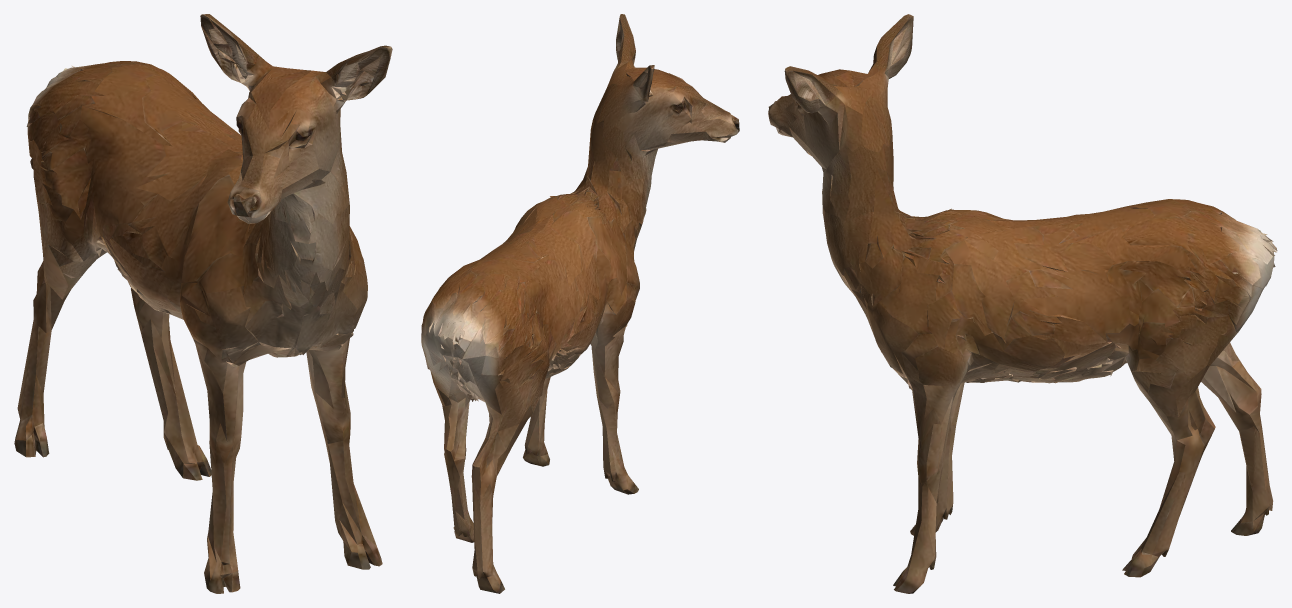
File: life_deer_doe.glb
The picture shows the model from 3 angles, left to right: view 1: azimuth 30°, elevation 25°; view 2: azimuth 150°, elevation 25°; view 3: azimuth 270°, elevation 25°; orthographic projection. The views are drawn at different scales.
Visible parts, largest first — view 1: life_deer_doe; view 2: life_deer_doe; view 3: life_deer_doe.
Part boxes in pixels (left/top/right/bottom): life_deer_doe: left=14, top=14, right=392, bottom=593; life_deer_doe: left=421, top=14, right=739, bottom=593; life_deer_doe: left=768, top=14, right=1277, bottom=593.
Bounding box in the file's own units: 0.713 × 1.81 × 1.65.
1 material, 1 textured.
